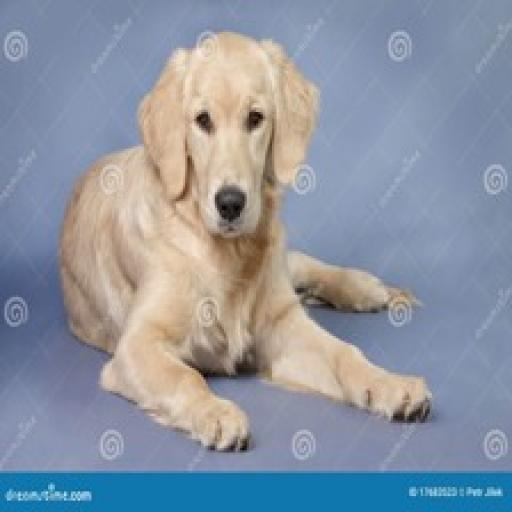dog: (40, 23, 442, 452)
